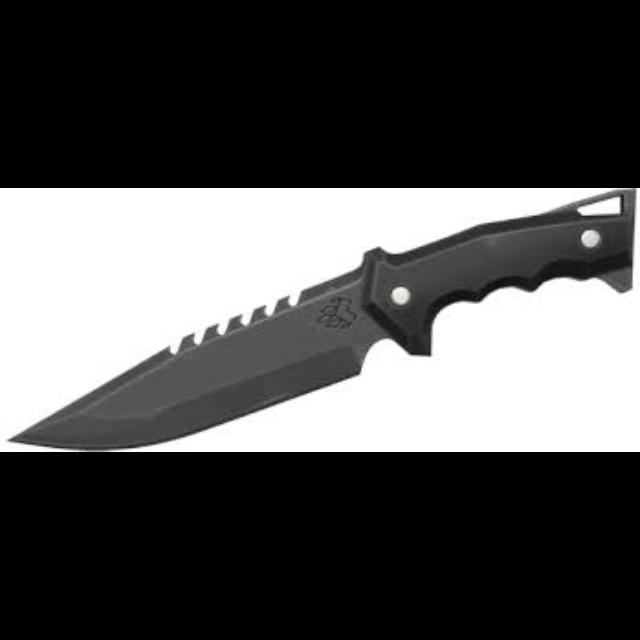knife: (6, 188, 636, 448)
